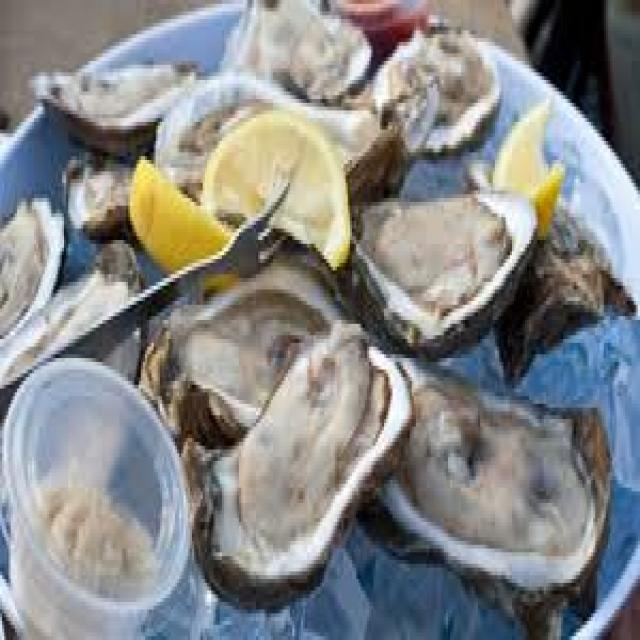Lemon: (210, 111, 357, 238)
Oysters: (202, 340, 398, 596), (396, 375, 607, 606), (361, 184, 535, 337), (155, 253, 318, 407), (365, 22, 503, 142), (38, 52, 188, 140)
